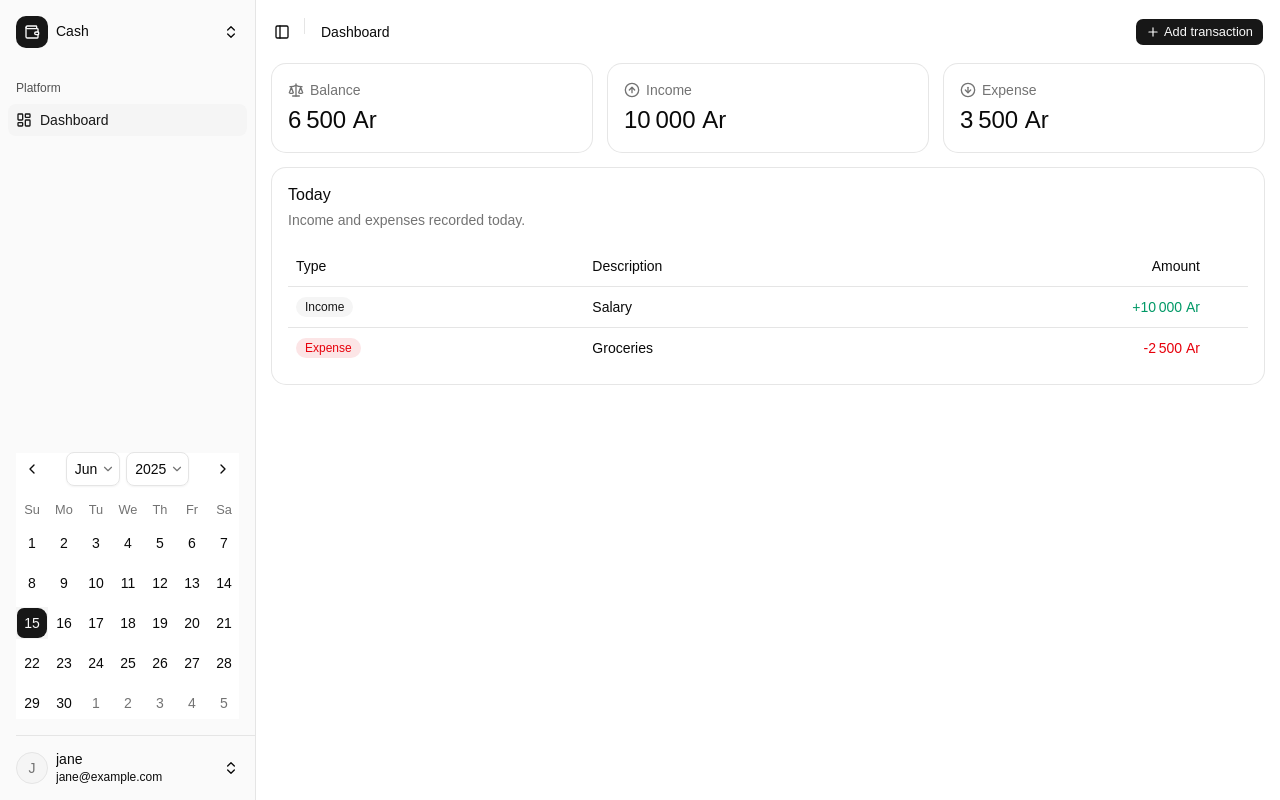
Test: Adding a transaction › shows the API message when saving fails
The image size is (1280, 800).
Expected: the text "Salary" is shown, [584,286,900,327]
Click the button "Add transaction". click: {"x": 1200, "y": 32}
box: [1135,18,1264,46]
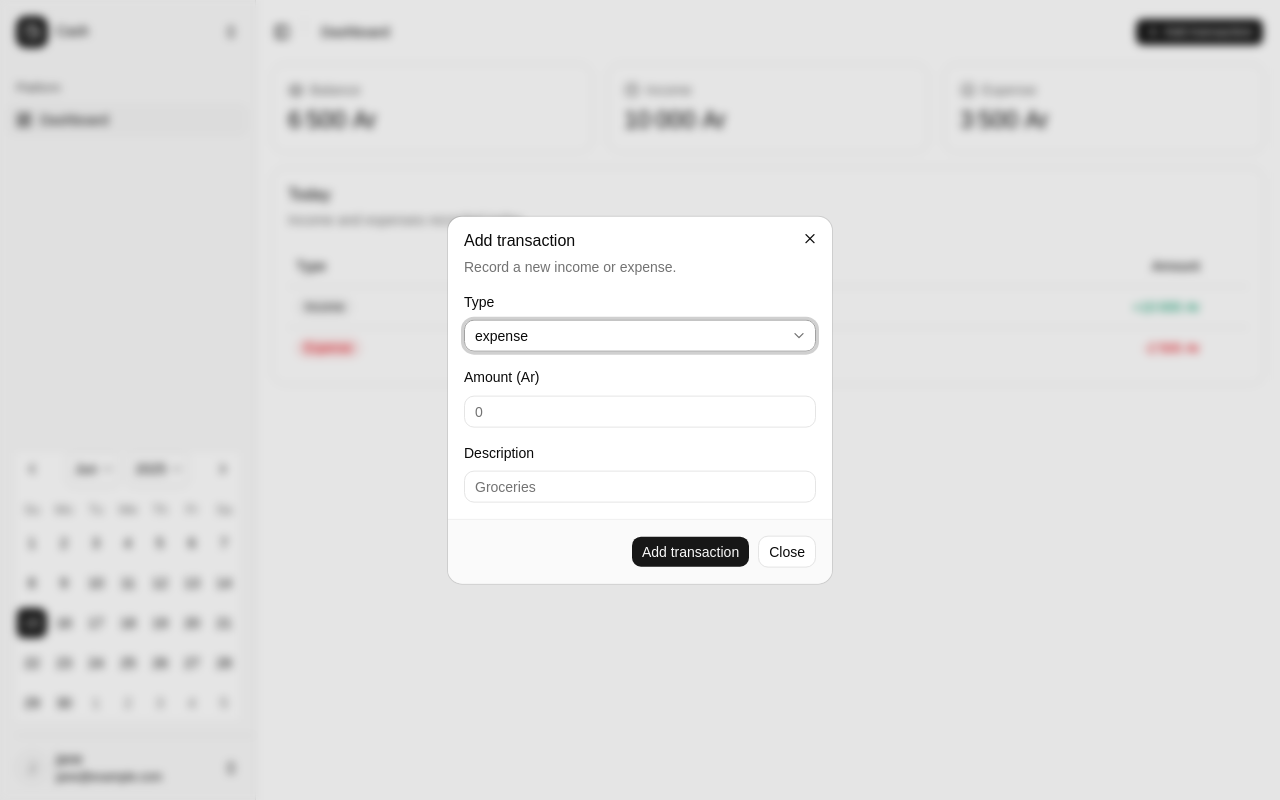
Type "700" into the number field labelled "Amount (Ar)". click: {"x": 640, "y": 411}
box: [464,395,816,427]
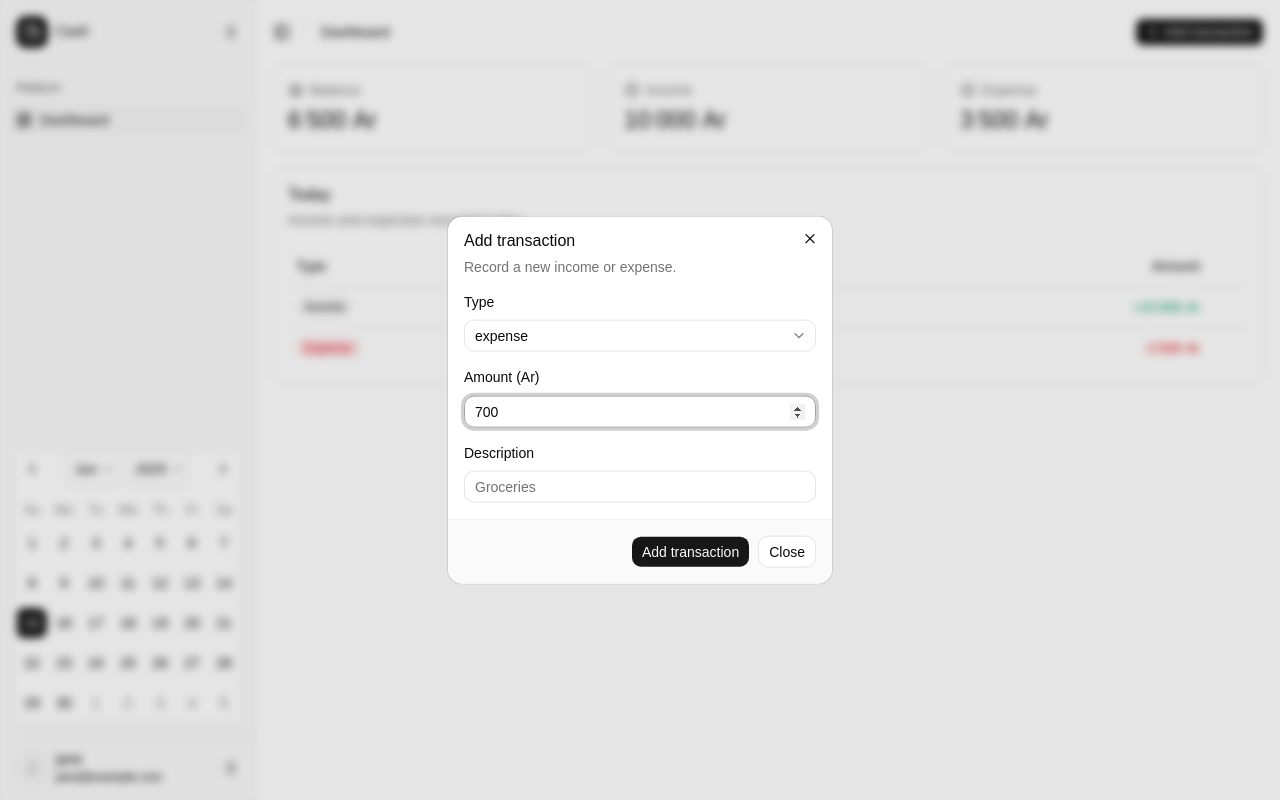
Type "Taxi" into the field labelled "Description". click: {"x": 640, "y": 486}
box: [464,470,816,502]
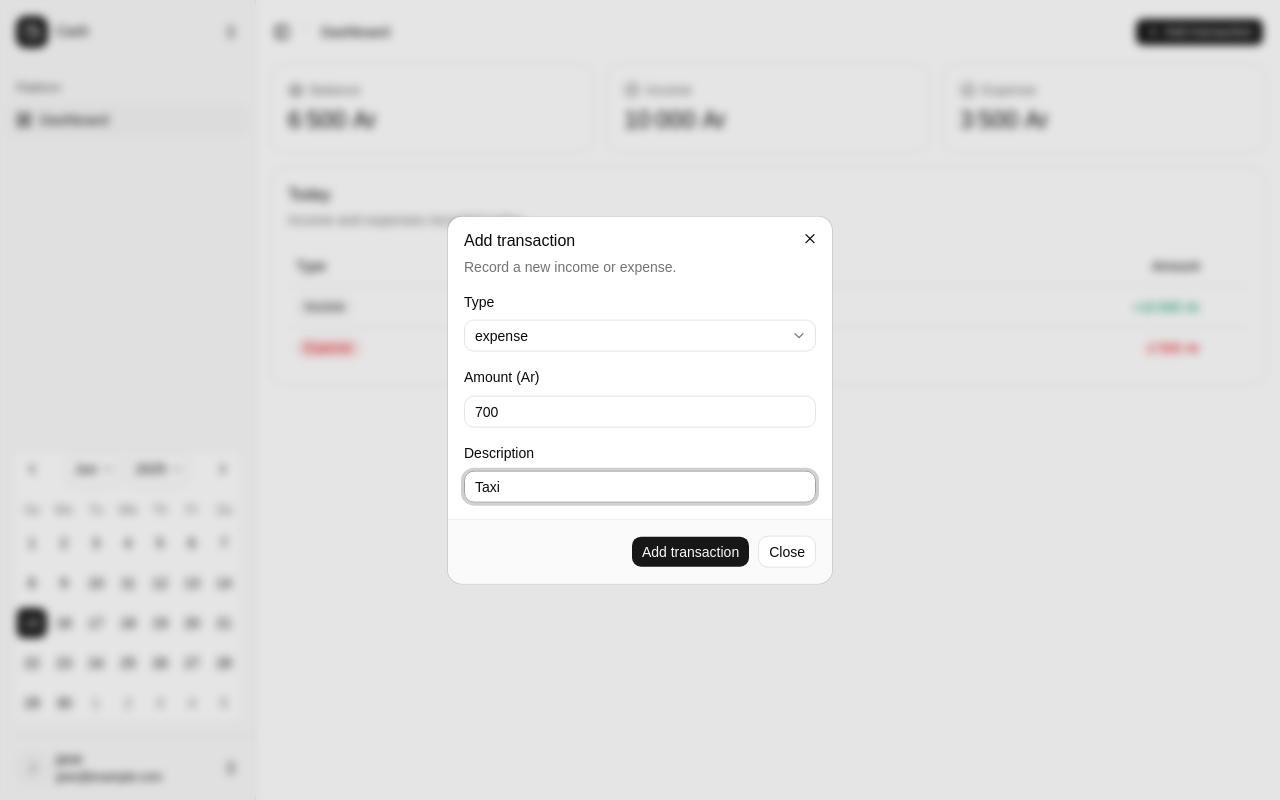
Click the button "Add transaction". click: {"x": 691, "y": 551}
box: [631,535,750,567]
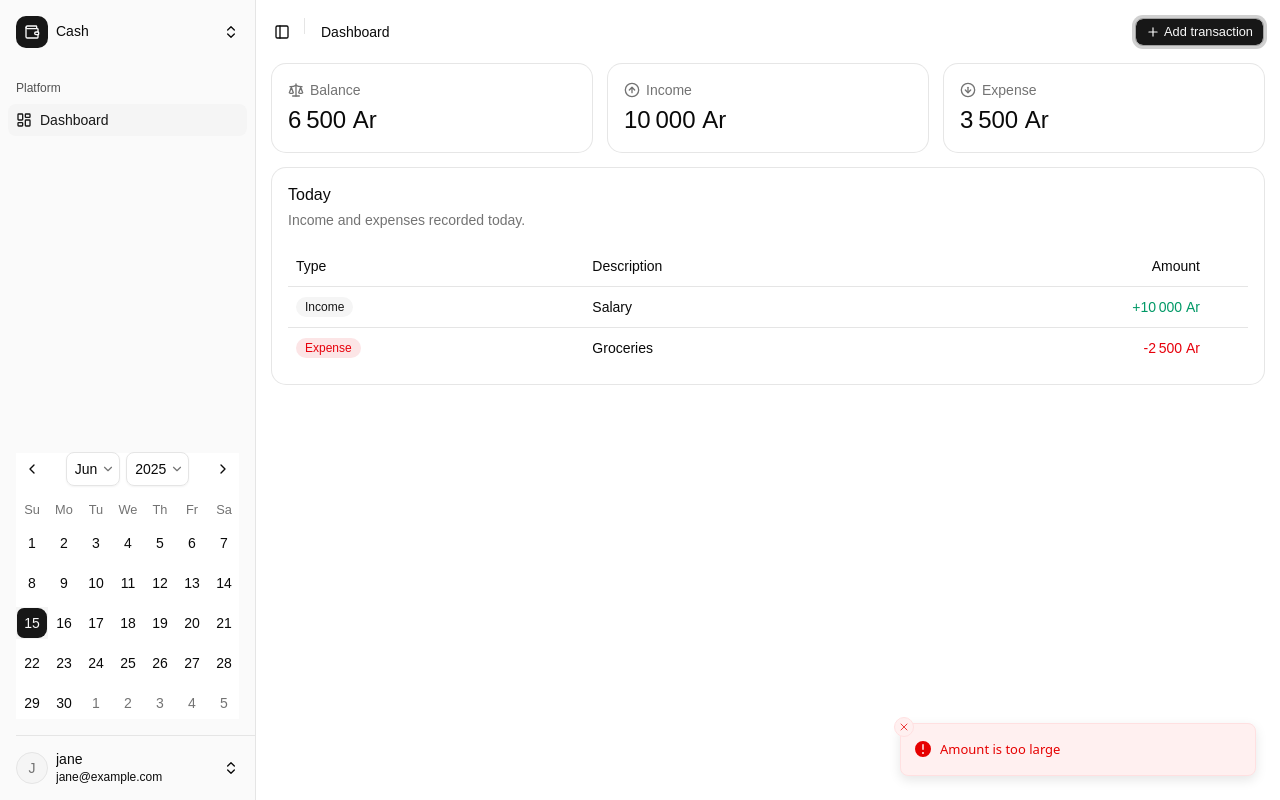
Now the text "Amount is too large" is shown, box [940,740,1060,759]
